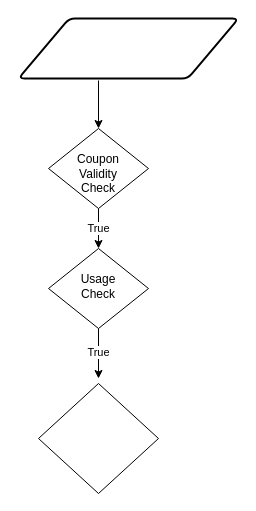
This 256x511 diagram has some shape labels left out. Each missing label, with the centre of its shape:
"Coupon Code along with Products or Service or Category Ids" goes at point 128,48.
"Min & Max Cart Total Amount Check" goes at point 98,438.
